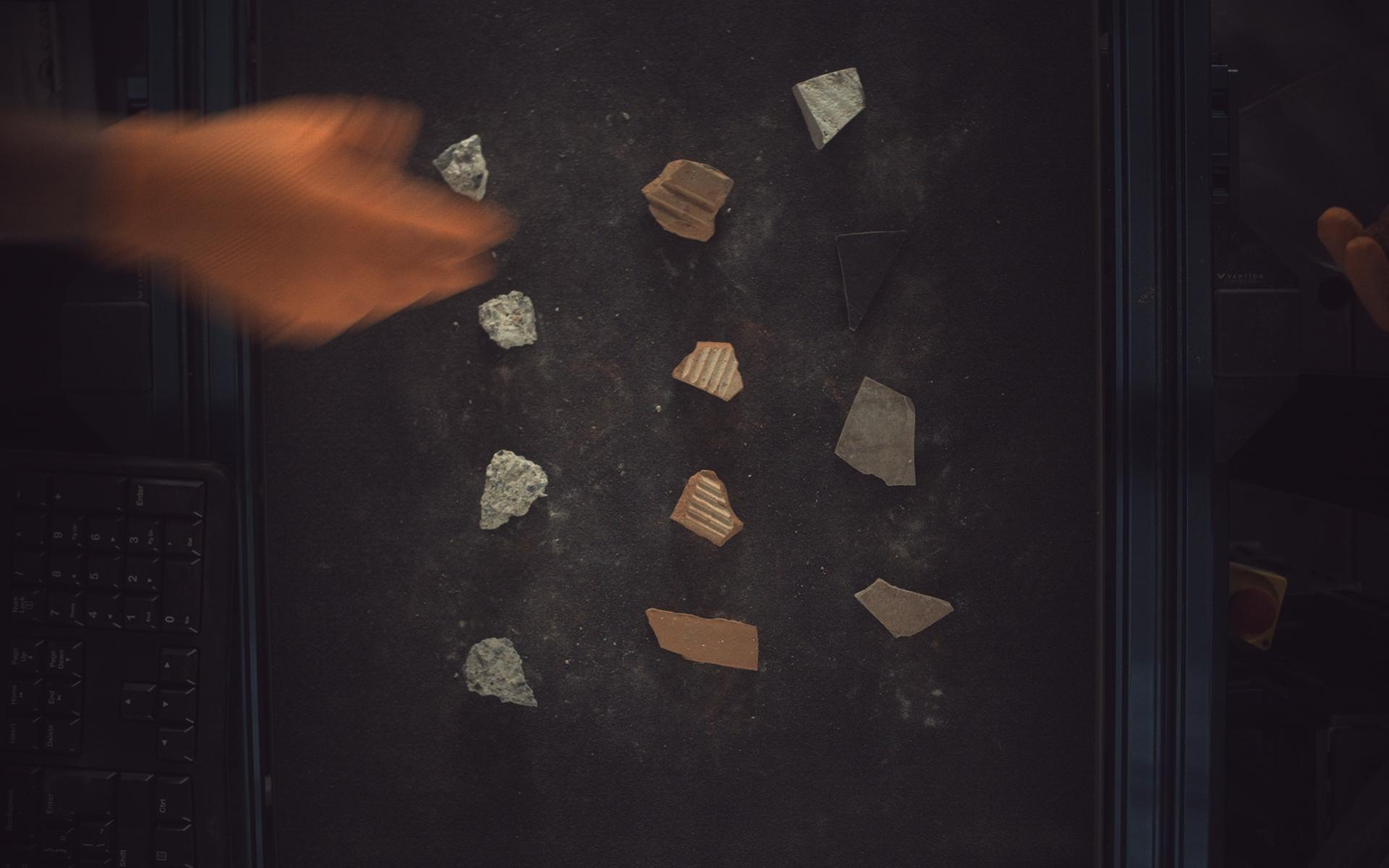brick: (644, 158, 734, 241), (647, 609, 760, 671), (672, 470, 744, 547), (674, 341, 744, 401)
concrete: (480, 450, 548, 530), (464, 639, 538, 708), (433, 133, 488, 200), (479, 290, 538, 349)
tile: (836, 377, 917, 486), (838, 230, 909, 331), (794, 67, 867, 148), (858, 579, 956, 639)
